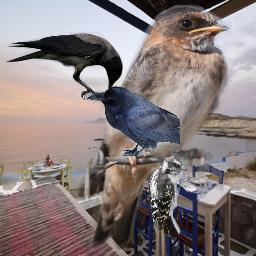Crow: (5, 32, 123, 100), (87, 86, 180, 156)
Swallow: (75, 4, 232, 250)
Woodpecker: (148, 156, 190, 238)
